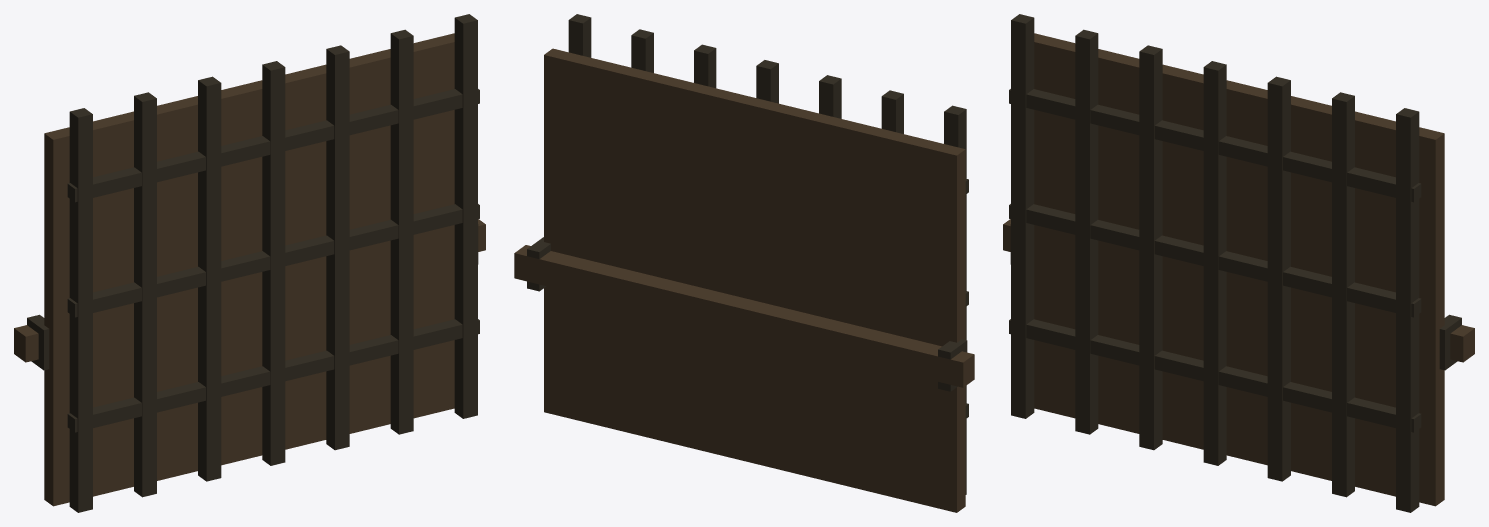
File: DressingGateSealed.fbx
The picture shows the model from 3 angles, left to right: view 1: azimuth 30°, elevation 25°; view 2: azimuth 150°, elevation 25°; view 3: azimuth 330°, elevation 25°; orthographic projection. The views are drawn at different scales.
Parts seen in each view (by area): view 1: DressingGateSealed; view 2: DressingGateSealed; view 3: DressingGateSealed.
Boxes of the visible parts, x1,y1,x2,y2 form: DressingGateSealed: [14, 14, 485, 512]; DressingGateSealed: [514, 14, 974, 512]; DressingGateSealed: [1003, 14, 1474, 512].
Bounding box in the file's own units: 502 × 412 × 64.
Materials: 2 (2 with a texture image).
